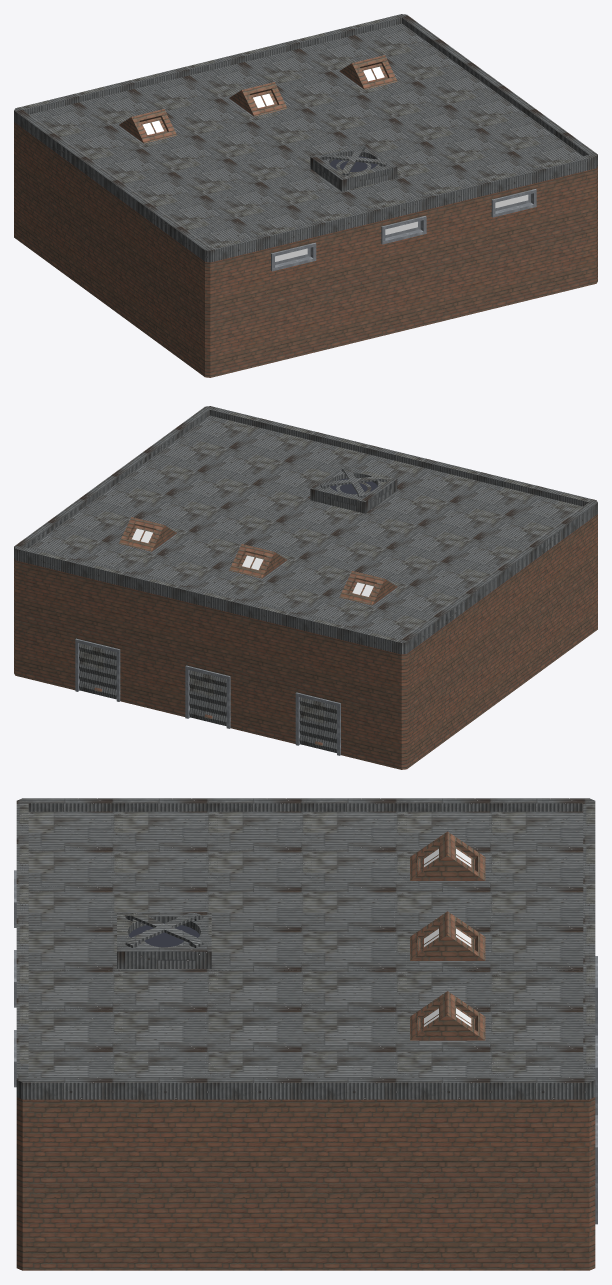
File: Garage_1.glb
3 views of the same model, one above another, from view 1: azimuth 30°, elevation 25°; view 2: azimuth 150°, elevation 25°; view 3: azimuth 270°, elevation 25° (orthographic). The views are drawn at different scales.
Visible parts, largest first — view 1: mergedBlocks(Clone); view 2: mergedBlocks(Clone); view 3: mergedBlocks(Clone).
Part boxes in pixels (x1,y1,x2,y2): mergedBlocks(Clone): [14, 14, 597, 377]; mergedBlocks(Clone): [14, 406, 597, 769]; mergedBlocks(Clone): [14, 798, 597, 1270].
Bounding box in the file's own units: 7.13 × 2.4 × 6.19.
Materials: 6 (4 with a texture image).
